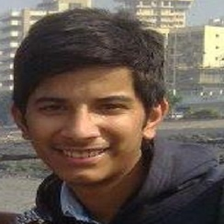no_mask: (25, 67, 145, 180)
